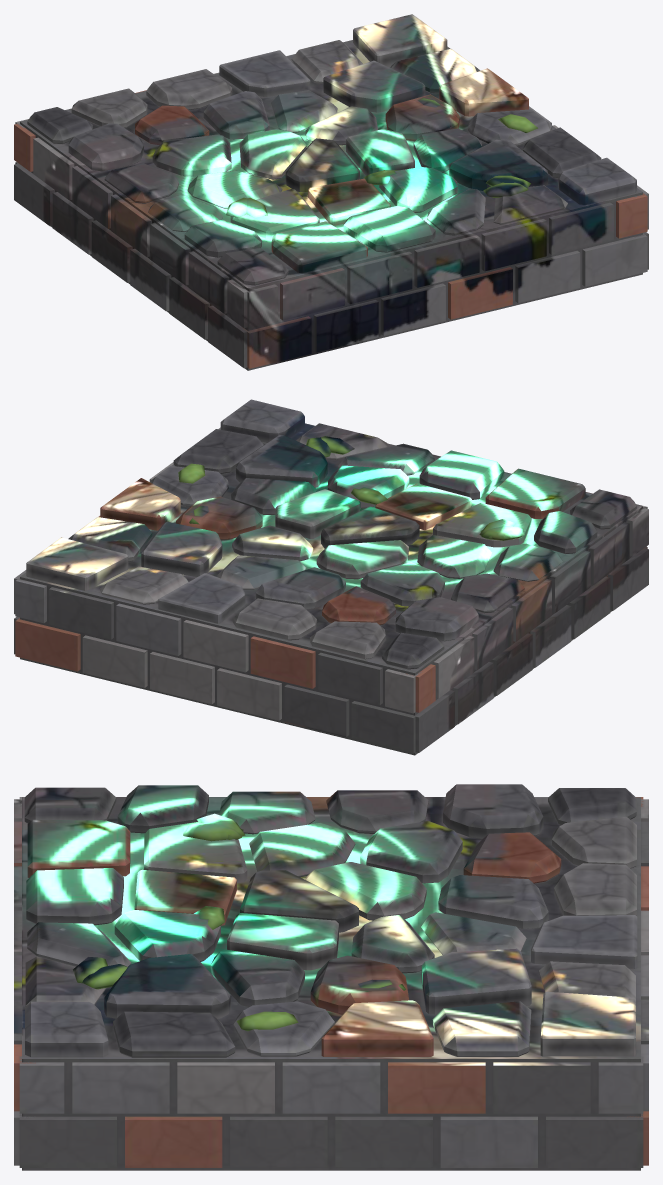
The model's file is wind_plate.glb.
3 views of the same model, one above another, from view 1: azimuth 30°, elevation 25°; view 2: azimuth 150°, elevation 25°; view 3: azimuth 270°, elevation 25° (orthographic). The views are drawn at different scales.
Visible parts, largest first — view 1: wind_plate; view 2: wind_plate; view 3: wind_plate.
Boxes of the visible parts, box(x1,y1,x2,y2) form: wind_plate: box(14, 14, 648, 370); wind_plate: box(14, 399, 648, 755); wind_plate: box(14, 784, 648, 1170).
Size of the model in its own units: 2.01 by 0.464 by 2.01.
1 material, 1 textured.
